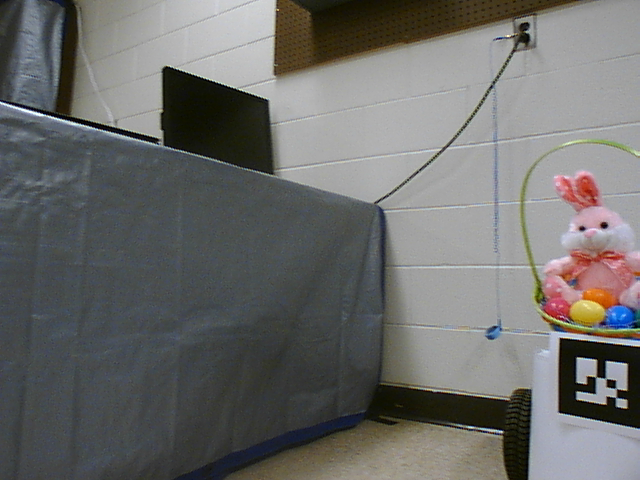bunny: (504, 125, 640, 346)
